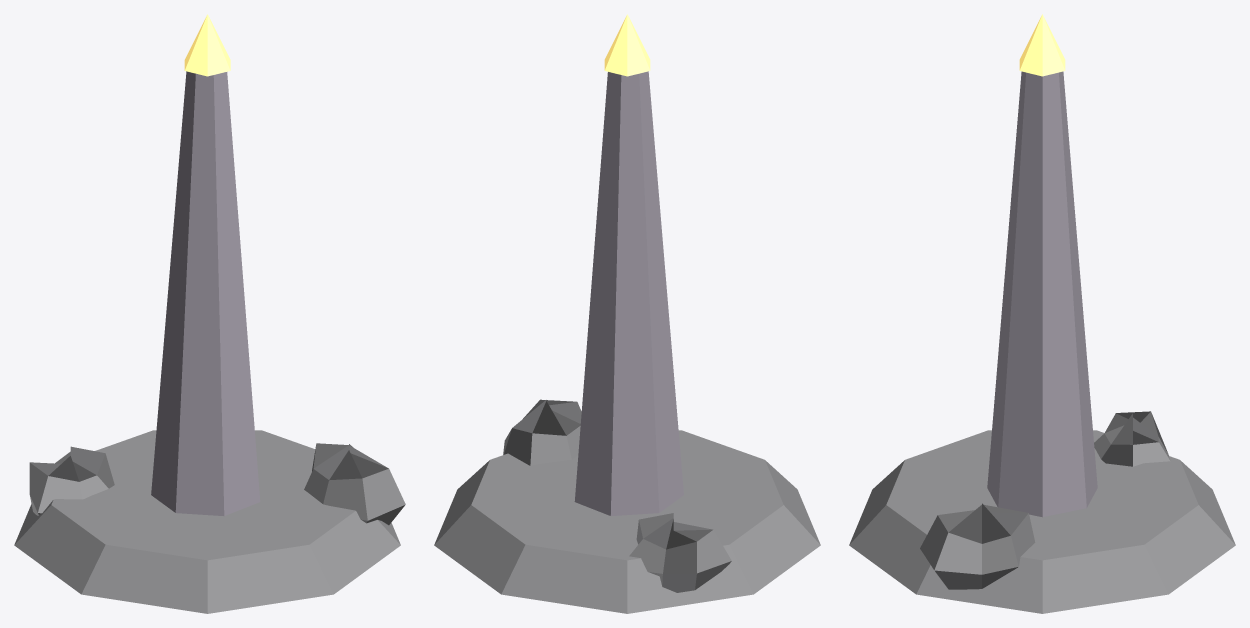
Rendered from landmark.gltf.
The picture shows the model from 3 angles, left to right: view 1: azimuth 30°, elevation 25°; view 2: azimuth 150°, elevation 25°; view 3: azimuth 270°, elevation 25°; orthographic projection.
Visible parts, largest first — view 1: wildlands-prop; view 2: wildlands-prop; view 3: wildlands-prop.
Part boxes in pixels (<box>): wildlands-prop: <box>14,14,405,613</box>; wildlands-prop: <box>434,14,820,613</box>; wildlands-prop: <box>849,14,1235,613</box>.
Bounding box in the file's own units: 10.09 × 15.6 × 10.24.
